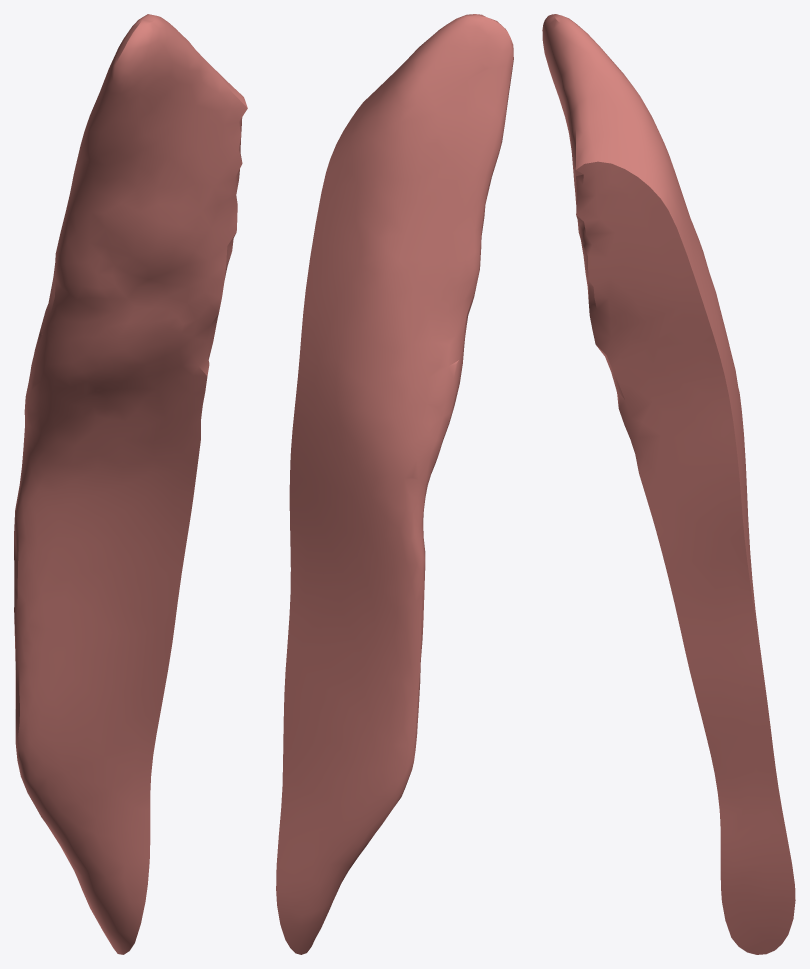
Rendered from fma301549_mm4024.glb.
The picture shows the model from 3 angles, left to right: view 1: azimuth 30°, elevation 25°; view 2: azimuth 150°, elevation 25°; view 3: azimuth 270°, elevation 25°; orthographic projection. The views are drawn at different scales.
Visible parts, largest first — view 1: FMA301549_MM4024; view 2: FMA301549_MM4024; view 3: FMA301549_MM4024.
Part boxes in pixels (x1=…): FMA301549_MM4024: x1=14, y1=14, x2=247, y2=954; FMA301549_MM4024: x1=276, y1=14, x2=513, y2=954; FMA301549_MM4024: x1=542, y1=14, x2=795, y2=954.
Bounding box in the file's own units: 0.0118 × 0.0728 × 0.0185.
